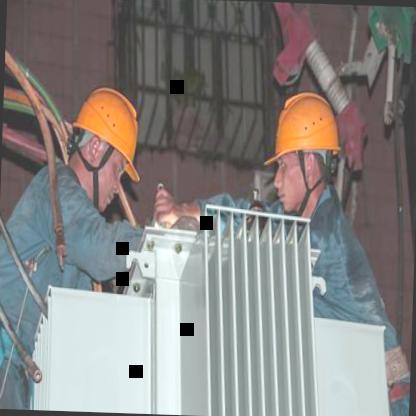helmet: (264, 78, 350, 216), (63, 76, 150, 209)
